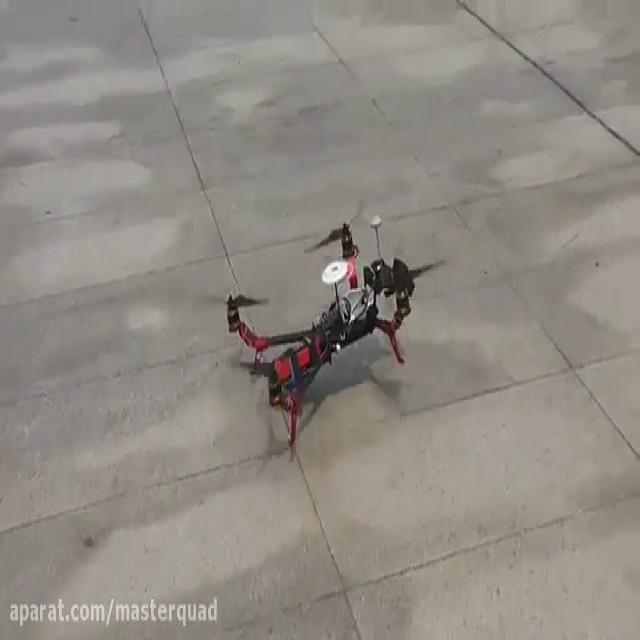drone: (186, 190, 452, 452)
